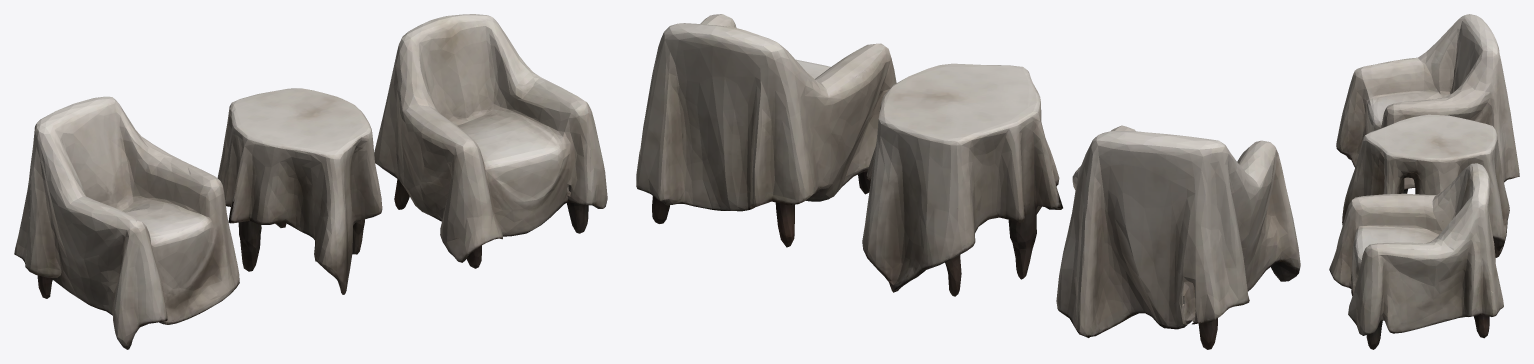
Rendered from covered_chairs_covered_table.glb.
3 renders of one model, left to right at view 1: azimuth 30°, elevation 25°; view 2: azimuth 150°, elevation 25°; view 3: azimuth 270°, elevation 25°, orthographic. The views are drawn at different scales.
Parts seen in each view (by area): view 1: geometry_0; view 2: geometry_0; view 3: geometry_0.
Boxes of the visible parts, <box> form: geometry_0: <box>14,14,607,349</box>; geometry_0: <box>636,14,1300,349</box>; geometry_0: <box>1329,14,1519,349</box>.
Bounding box in the file's own units: 0.9978 × 0.337 × 0.3908.
1 material, 1 textured.
